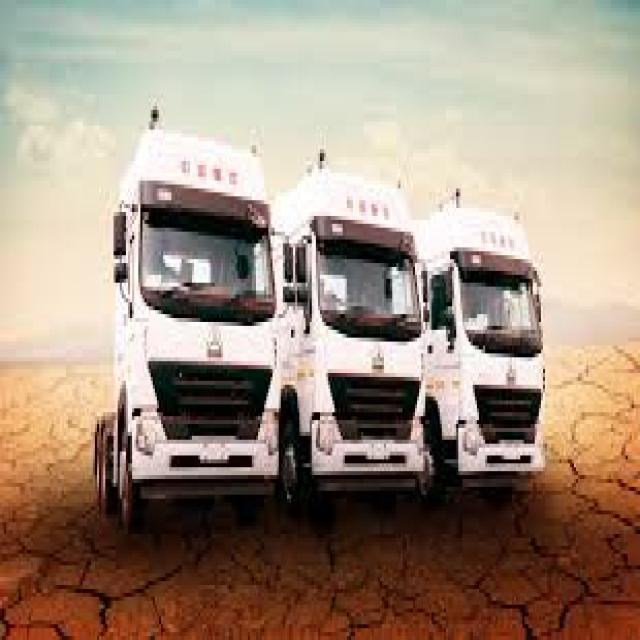Heavy Duty Truck: (97, 122, 281, 534), (281, 165, 425, 499), (425, 208, 545, 487)
